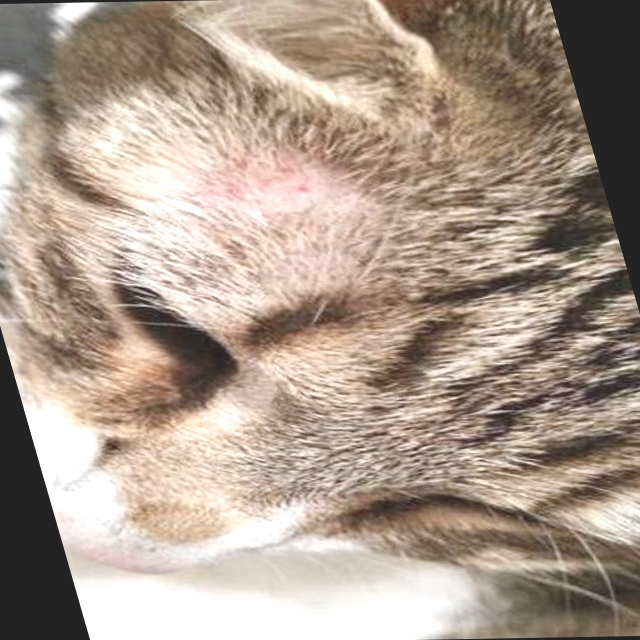ringworm: (153, 151, 389, 267)
